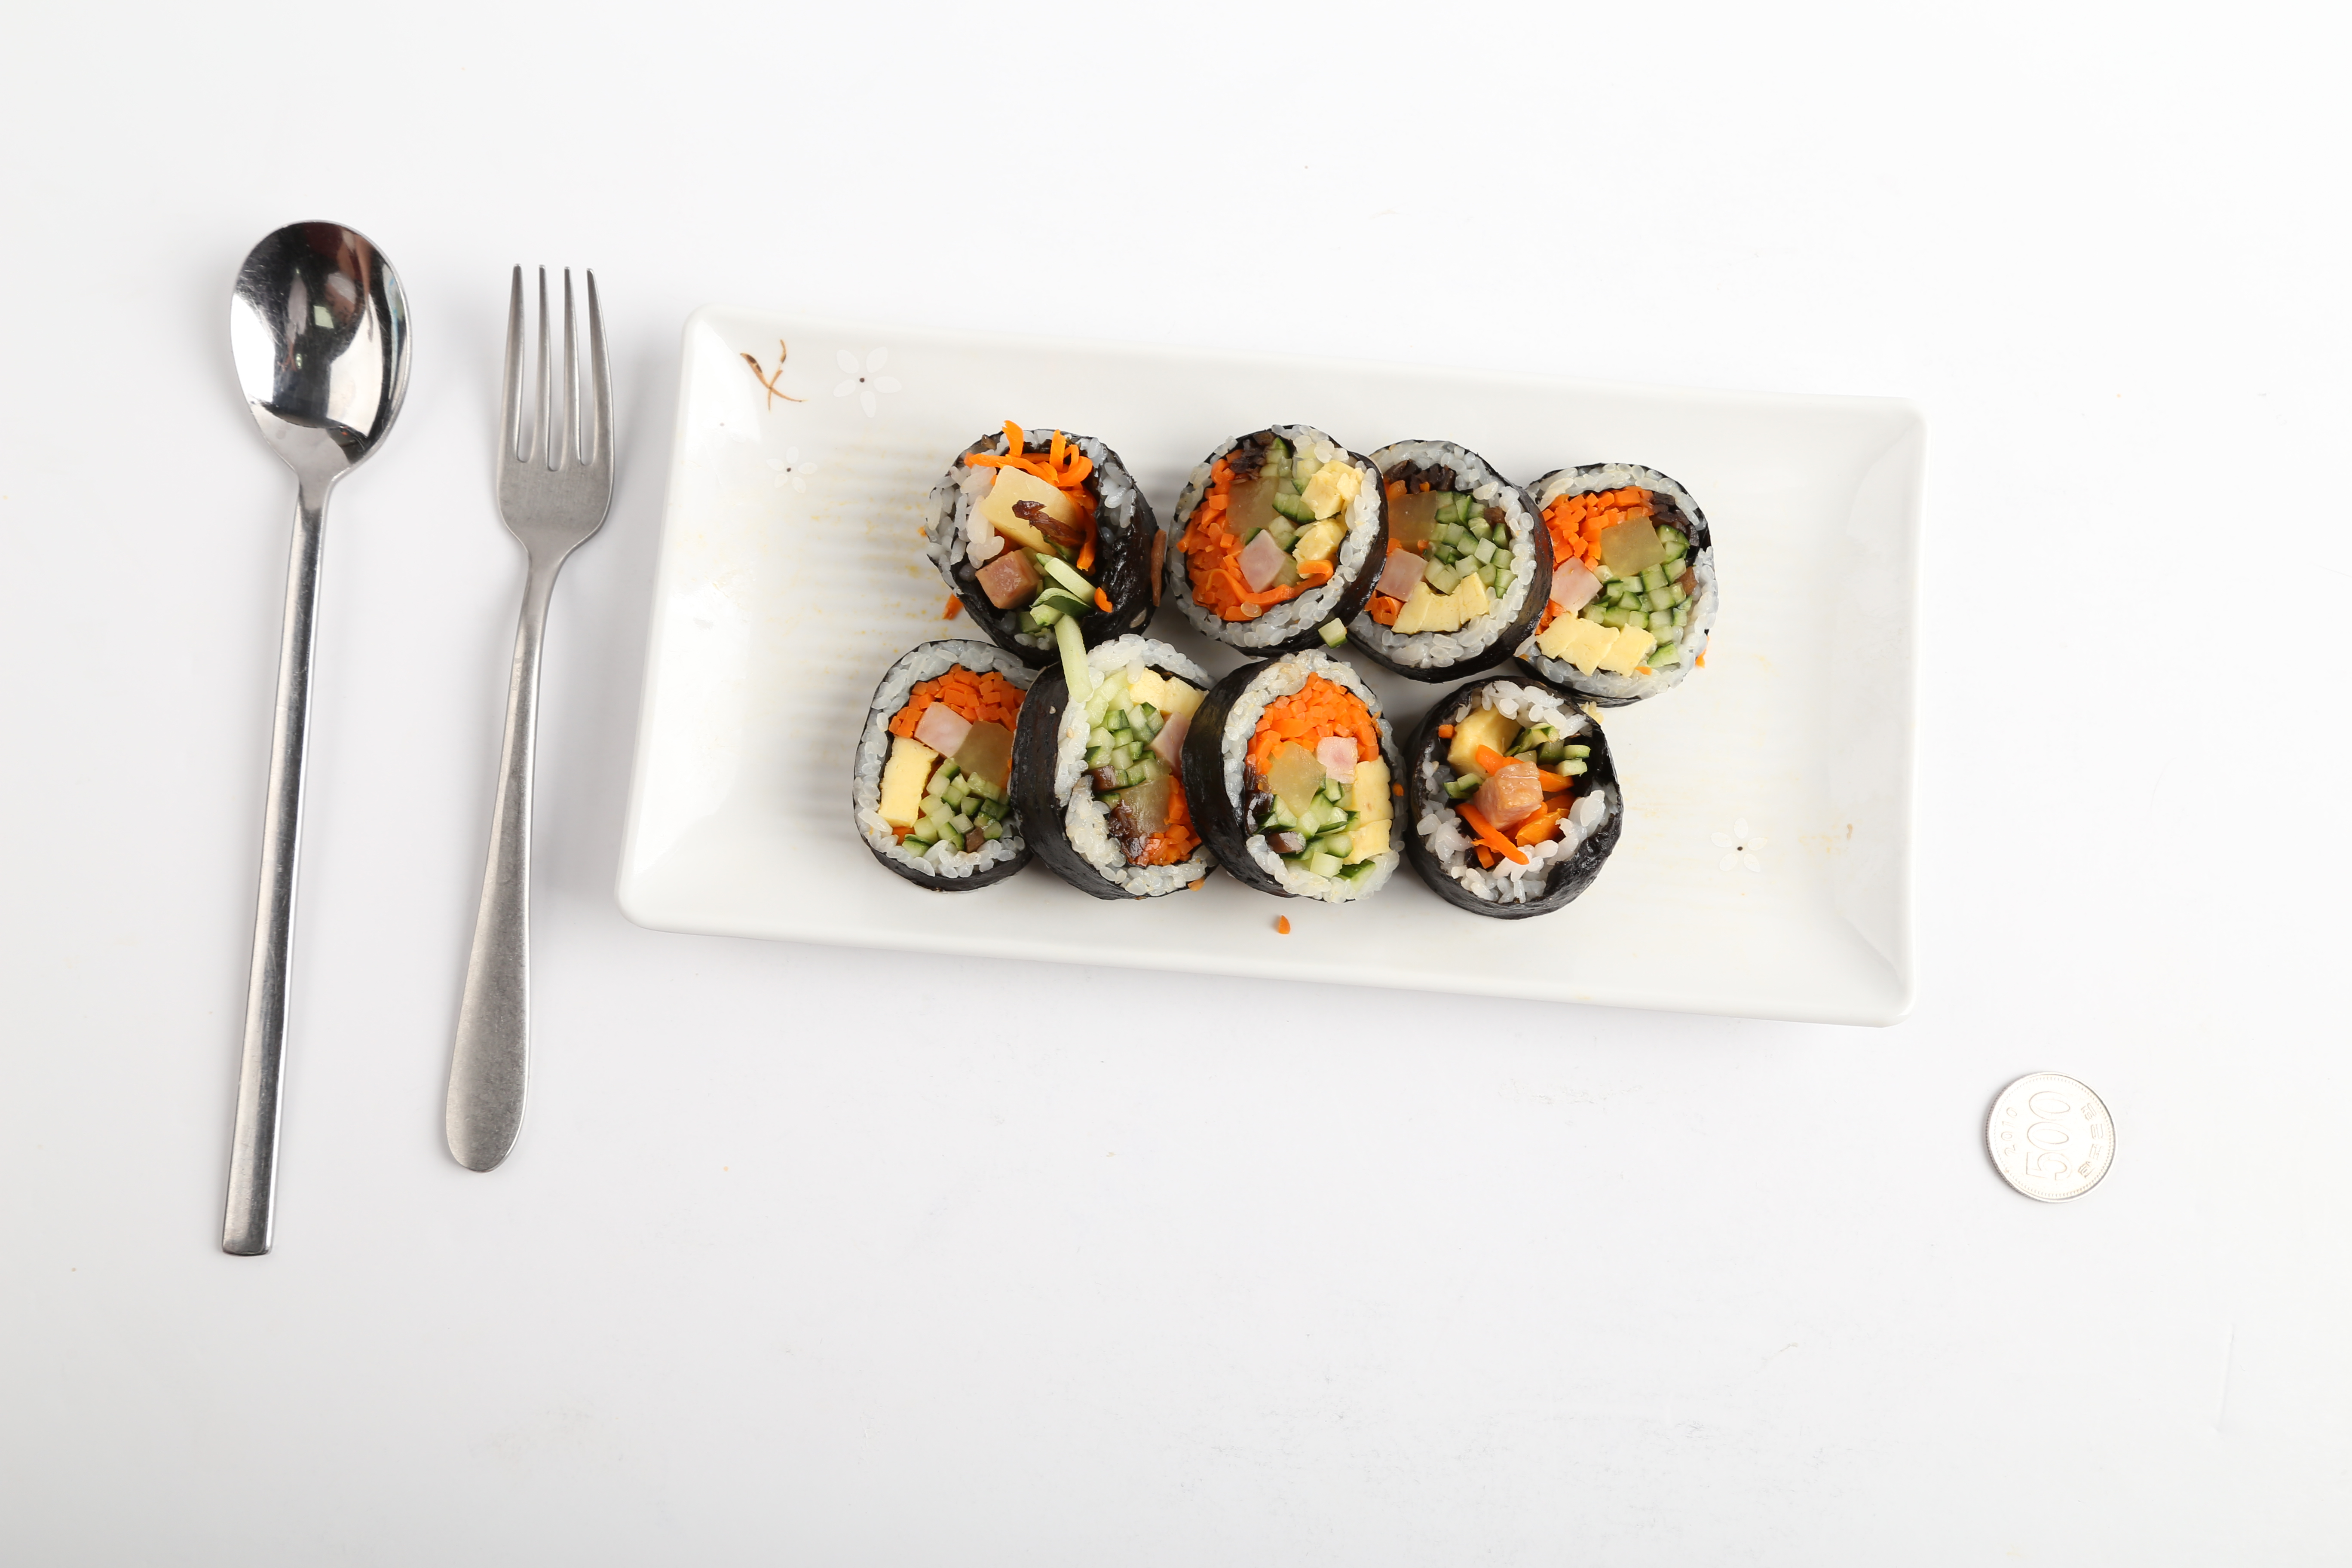dish: (612, 275, 1925, 1025)
ref_coin: (1981, 1062, 2121, 1207)
ref_fork: (486, 261, 618, 600)
ref_spoon: (226, 213, 418, 534)
김밥: (845, 420, 1717, 922)
